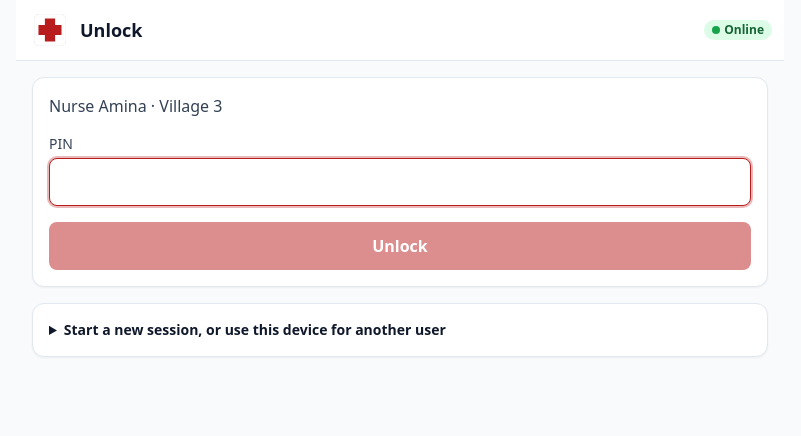
Test: app shell (jsdom) › an enrolled, locked device asks for the PIN and unlocks to the package download
This screenshot has width=801, height=436.
Type "000000" into the password field labelled "PIN" at [400, 182], box [49,158,751,206]
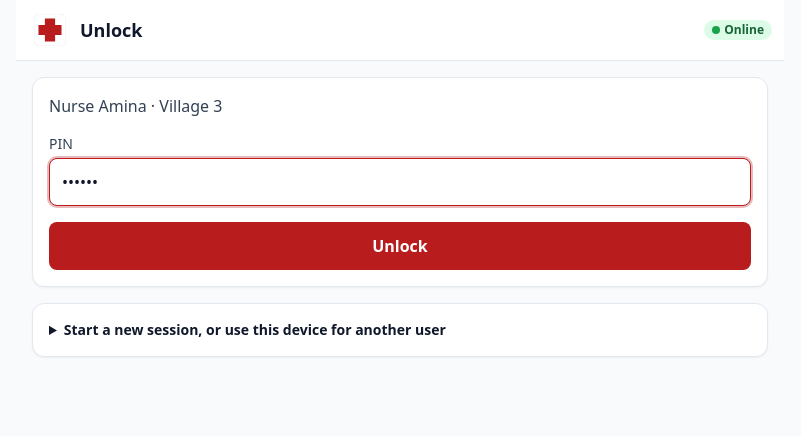
Click the button "Unlock" at [400, 246], box [49,222,751,270]
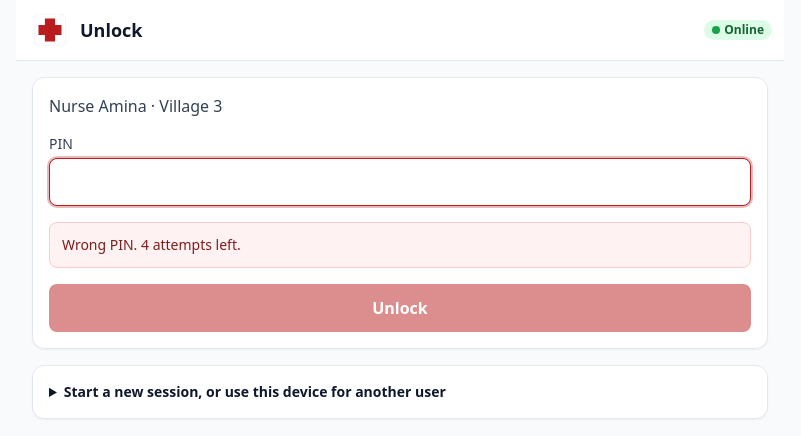
Check: the text "Wrong PIN. 4 attempts left." is shown, box [49,222,751,268]
Type "123456" into the password field labelled "PIN" at [400, 182], box [49,158,751,206]
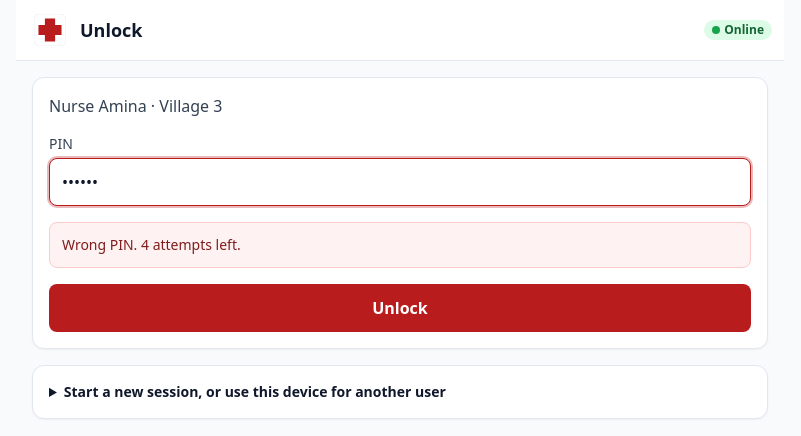
Click the button "Unlock" at [400, 308], box [49,284,751,332]
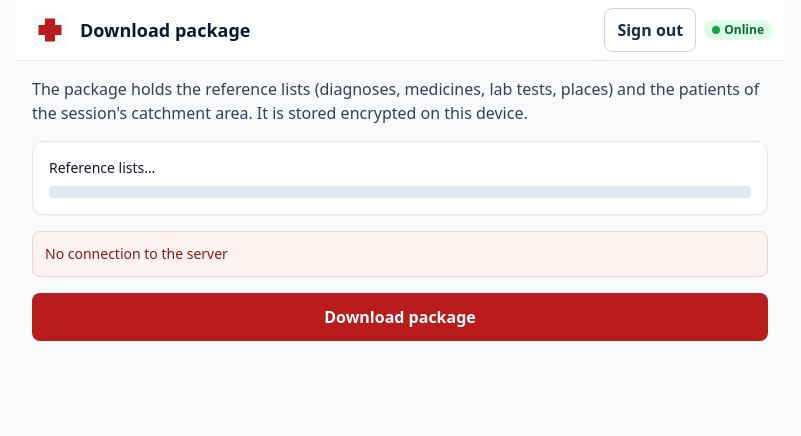
Check: the heading "Download package" is shown, box [80,18,250,42]
